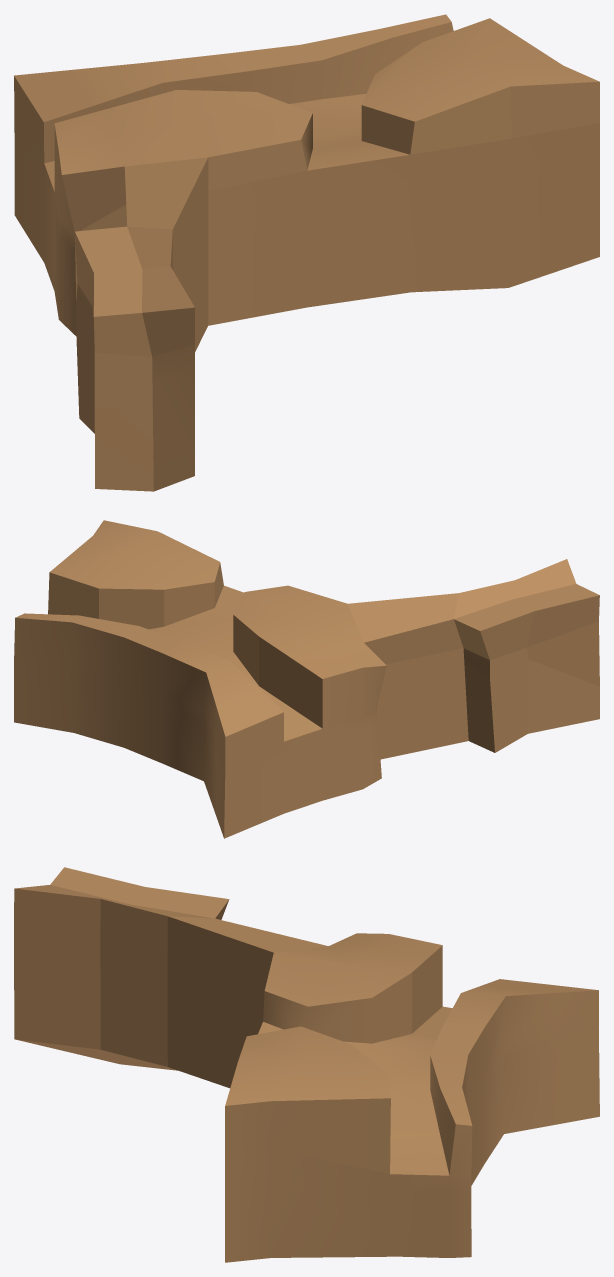
File: terrain_W4A6.fbx
The picture shows the model from 3 angles, top to bottom: view 1: azimuth 30°, elevation 25°; view 2: azimuth 150°, elevation 25°; view 3: azimuth 270°, elevation 25°; orthographic projection. The views are drawn at different scales.
Parts seen in each view (by area): view 1: W4A6_mesh; view 2: W4A6_mesh; view 3: W4A6_mesh.
Part boxes in pixels (x1=…): W4A6_mesh: x1=14, y1=14, x2=599, y2=491; W4A6_mesh: x1=14, y1=520, x2=599, y2=838; W4A6_mesh: x1=14, y1=867, x2=599, y2=1262.
Size of the model in its own units: 31967 by 10747 by 30408.
